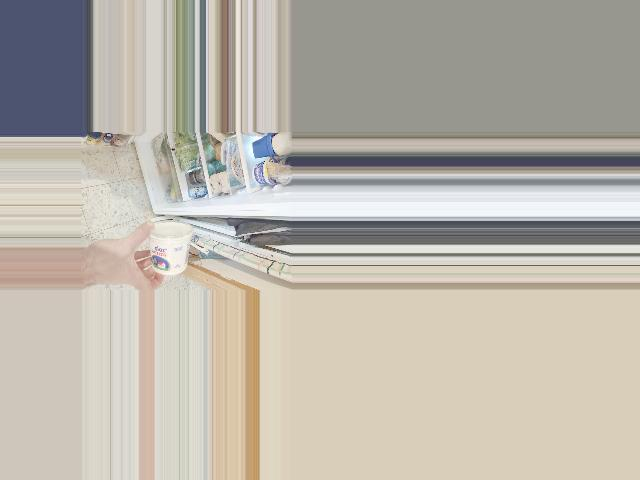cotage: (147, 220, 191, 277)
